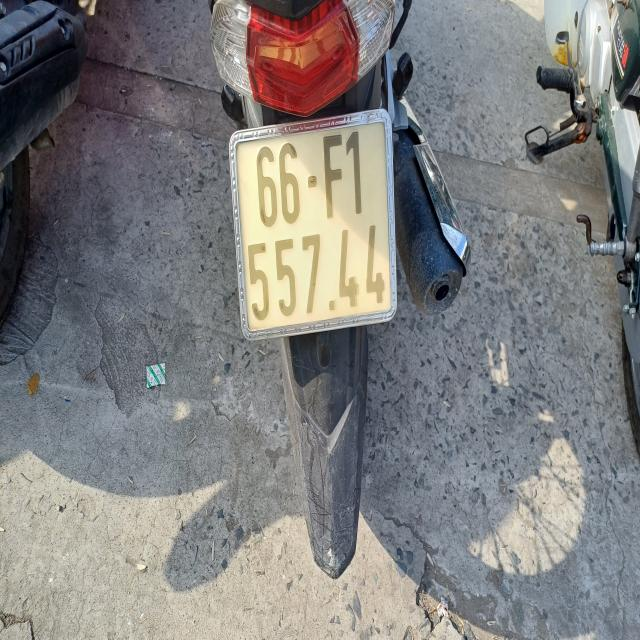1: (344, 130, 366, 216)
4: (360, 222, 387, 300), (339, 230, 361, 310)
5: (273, 235, 298, 318), (244, 245, 270, 321)
6: (254, 143, 280, 231), (280, 136, 302, 224)
7: (300, 228, 323, 313)
F: (322, 127, 345, 222)
